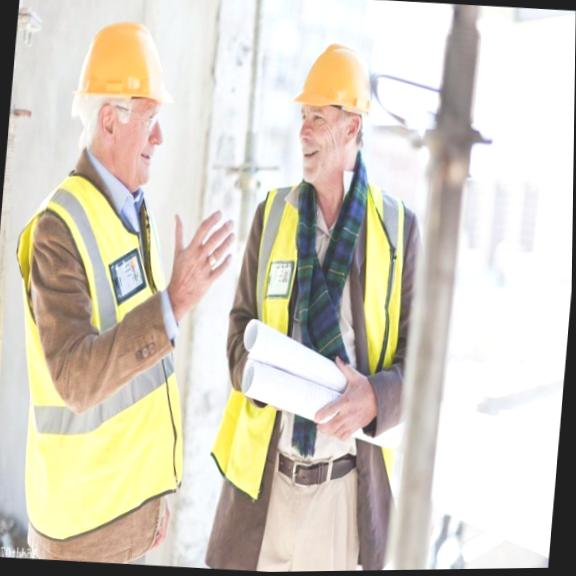safety_vest: (0, 168, 216, 531), (211, 171, 432, 508)
